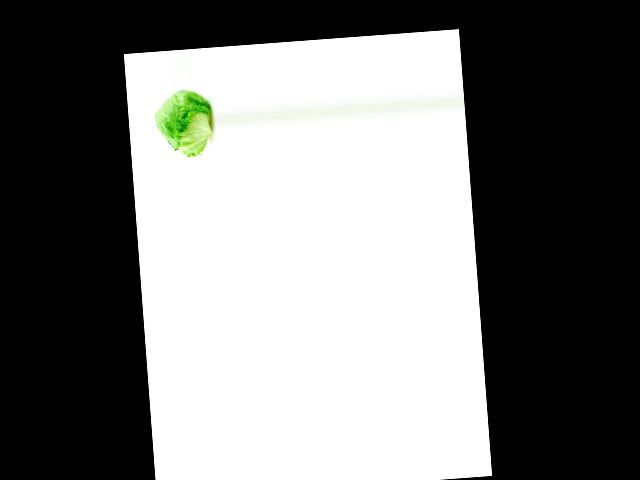lettuce: (151, 85, 214, 159)
